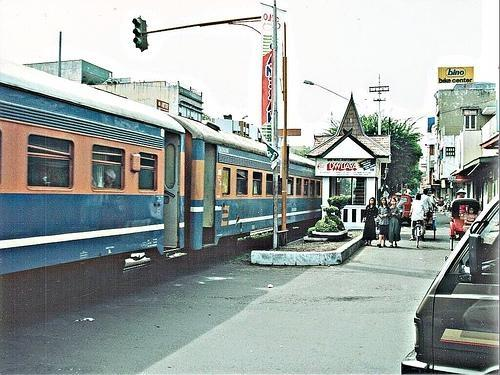bicycle: (414, 222, 422, 249)
car: (400, 195, 500, 374), (401, 195, 413, 224)
